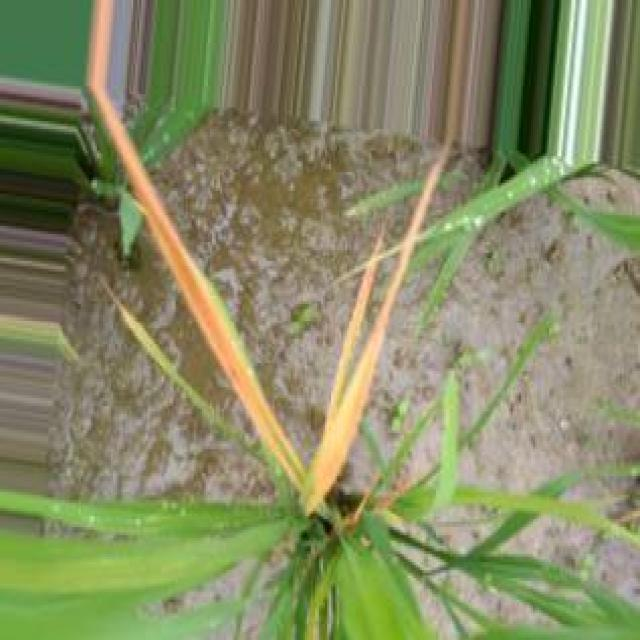Rice Tungro: (88, 0, 305, 492), (304, 143, 449, 514), (328, 233, 382, 429)
